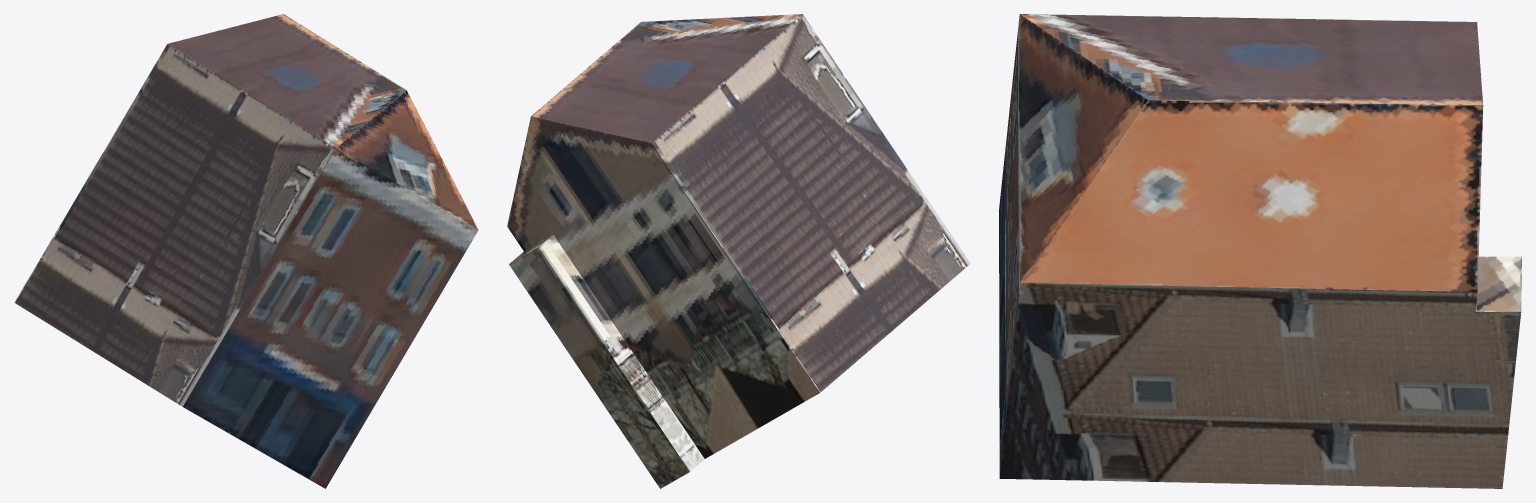
3 renders of one model, left to right at view 1: azimuth 30°, elevation 25°; view 2: azimuth 150°, elevation 25°; view 3: azimuth 270°, elevation 25°, orthographic. The views are drawn at different scales.
Visible parts, largest first — view 1: BAG_0599100000675880 (×2); view 2: BAG_0599100000675880 (×4); view 3: BAG_0599100000675880 (×3).
Part boxes in pixels (x1,y1,x2,y2): BAG_0599100000675880 (×2): (14,14,478,488); BAG_0599100000675880 (×4): (507,14,970,488); BAG_0599100000675880 (×3): (999,14,1521,488).
Size of the model in its own units: 13.41 by 14.08 by 13.52.
4 materials, 4 textured.
